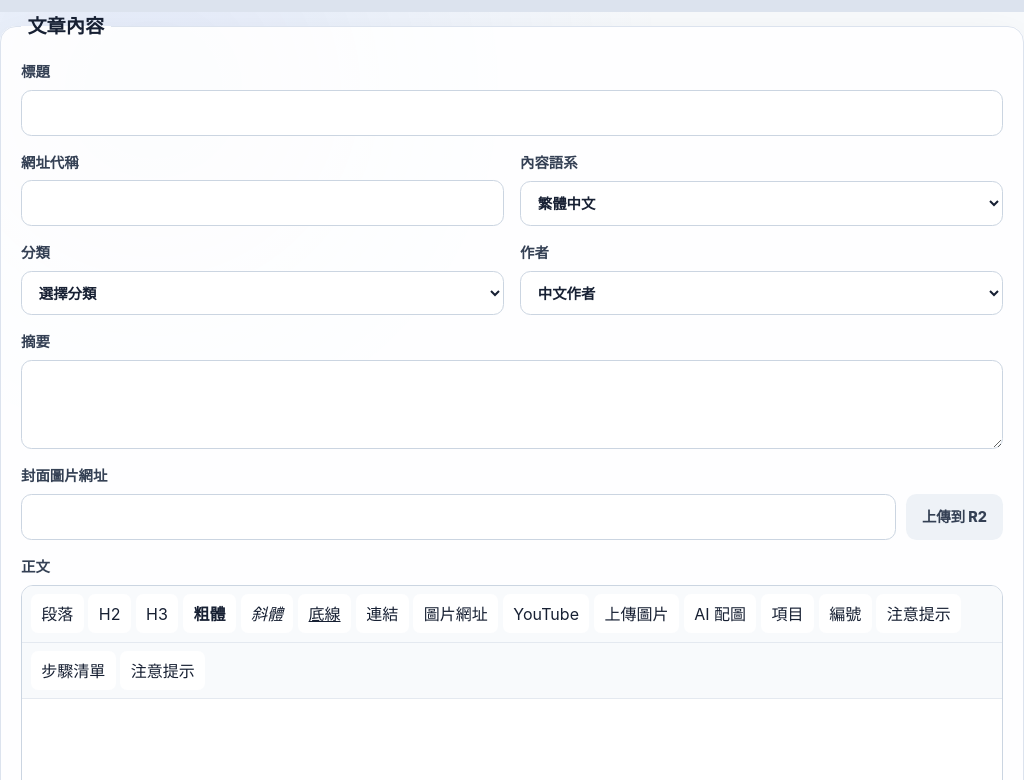
Test: defaults new articles to the first active author in each language
Expected: the dropdown labelled "作者" shows "中文作者", [520,271,1003,315]
Select "English" in the dropdown labelled "內容語系": (762, 204) [520,181,1003,226]
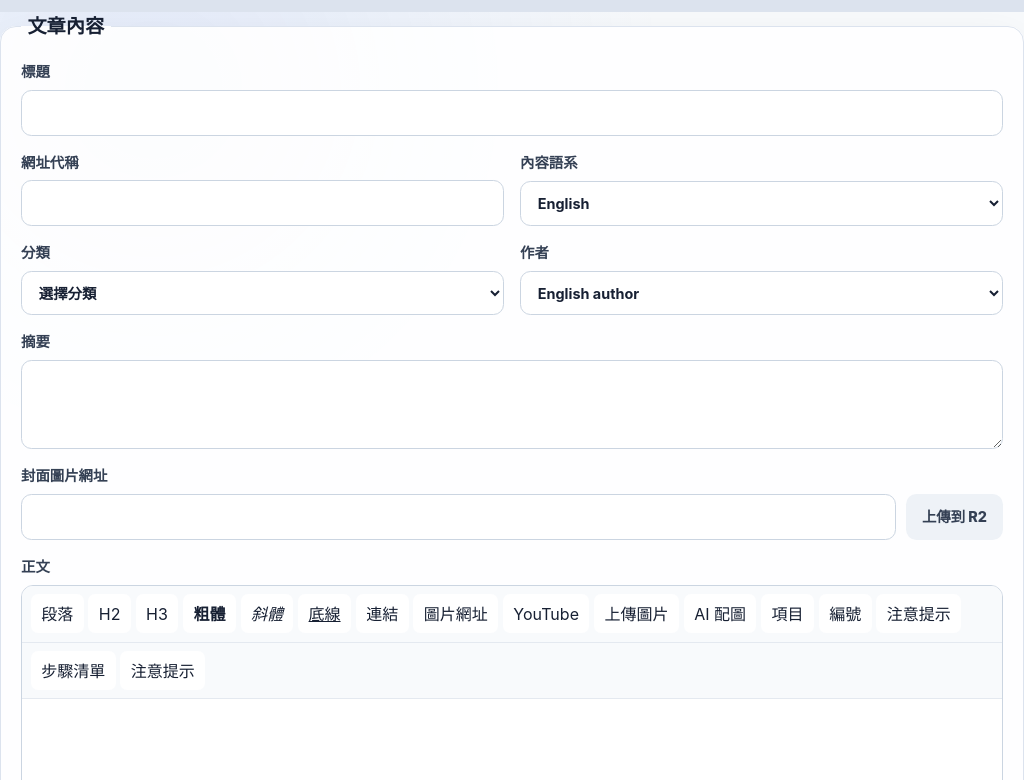
Expected: the option "中文作者" is not shown
Now the dropdown labelled "作者" shows "English author", box [520,271,1003,315]
